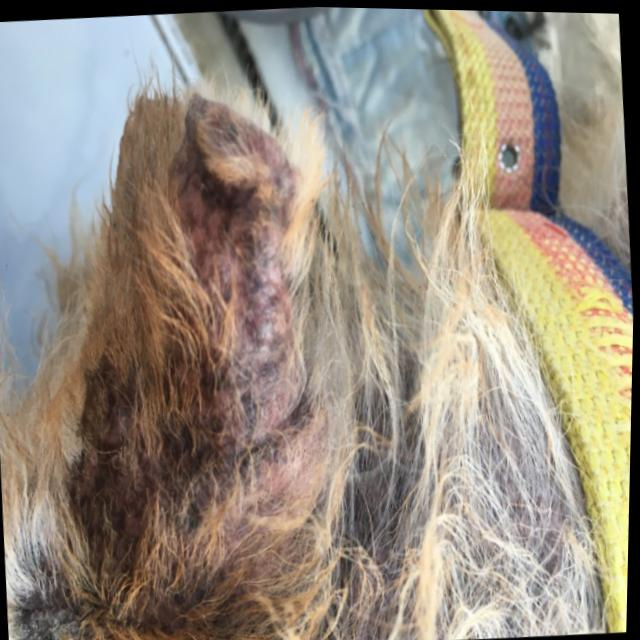demodicosis: (199, 125, 320, 519), (92, 368, 201, 534)
